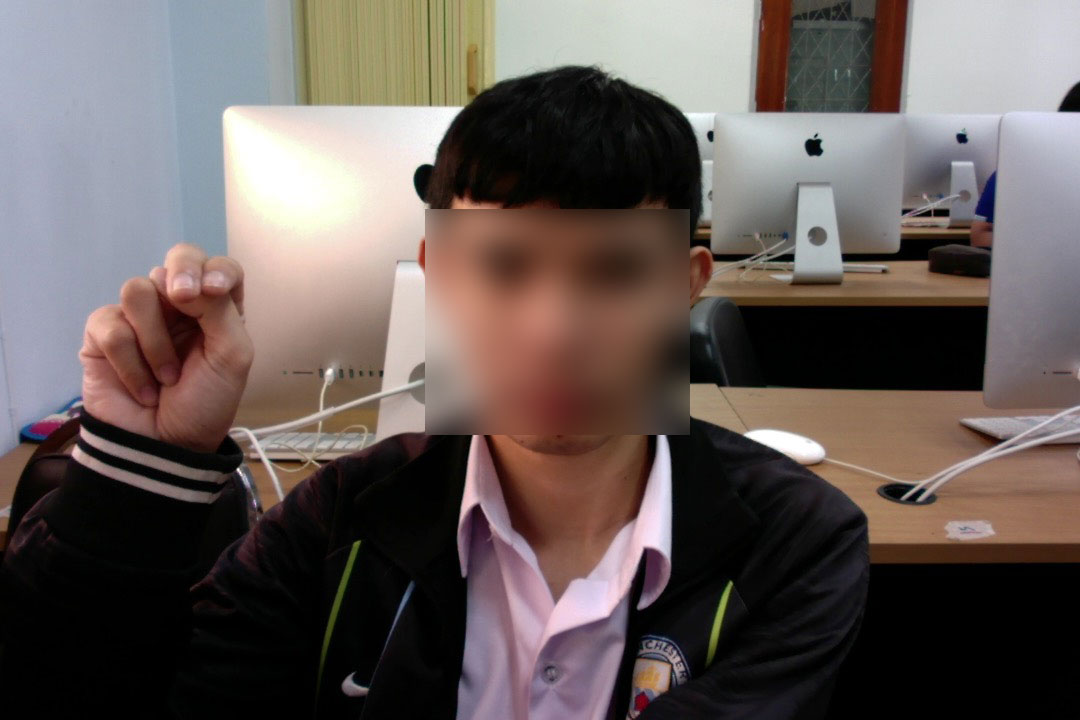nor: (70, 230, 260, 481)
